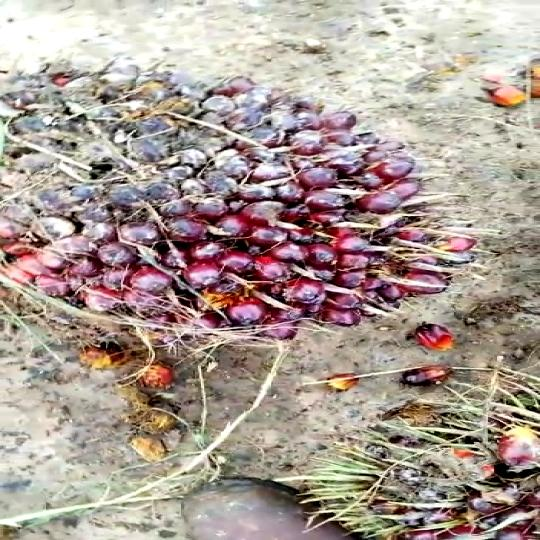kurang masak: (0, 53, 508, 408)
